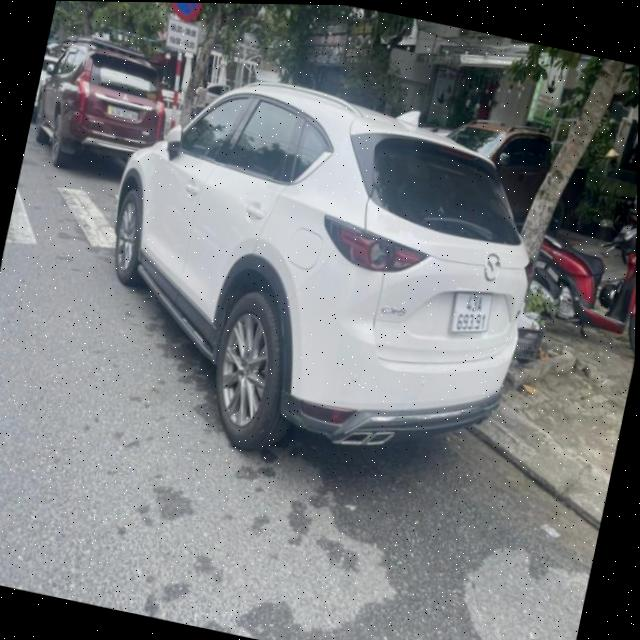car: (69, 51, 572, 502), (26, 29, 185, 189)
plate: (438, 282, 503, 345), (101, 94, 149, 130)
